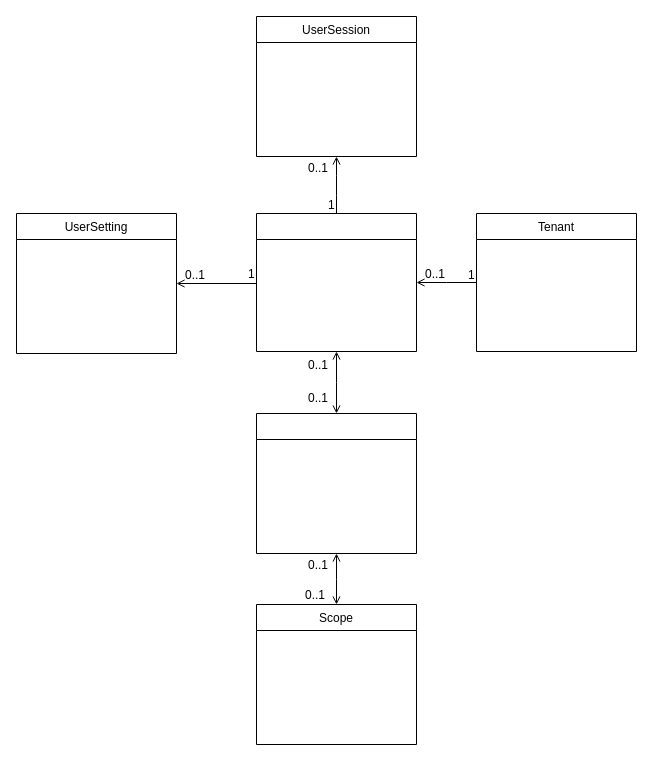
Some shapes in this 653 by 761 pixel diagram are drawn without their labels. The box of each missing label's shape, as (x1, y1, x2, y2) in pixels:
Role: (256, 412, 416, 554)
User: (256, 212, 416, 352)
